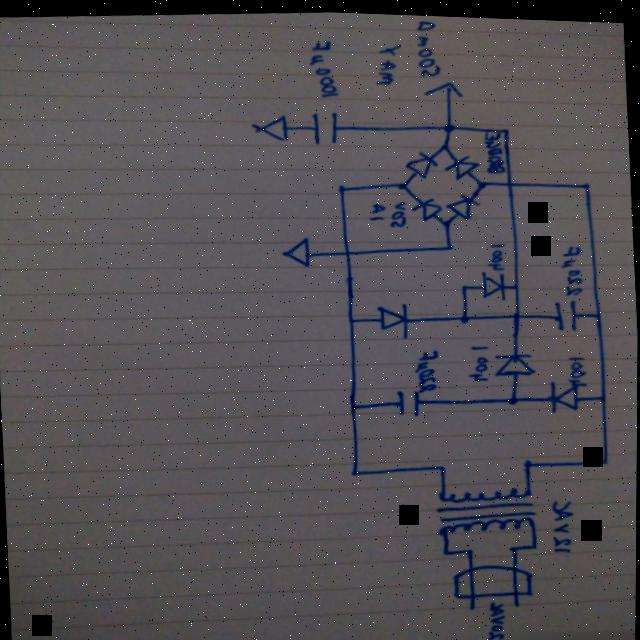capacitor: (311, 105, 342, 144), (554, 294, 580, 328), (397, 385, 422, 415)
crossover: (506, 175, 515, 184), (344, 247, 353, 255), (512, 308, 521, 315)
diode: (377, 298, 411, 339), (404, 145, 441, 176), (493, 348, 535, 375), (446, 189, 483, 218), (445, 149, 482, 178), (550, 375, 581, 409), (411, 192, 444, 218), (482, 266, 508, 298)
ground: (251, 110, 290, 141), (280, 233, 312, 266)
junction: (508, 390, 520, 401), (459, 310, 471, 320), (443, 119, 455, 129), (442, 214, 453, 224), (441, 138, 451, 148), (477, 176, 488, 185), (399, 177, 410, 186), (337, 181, 348, 190), (513, 278, 522, 287), (350, 400, 360, 408), (524, 455, 533, 463), (351, 466, 361, 473), (446, 240, 456, 247), (584, 177, 592, 185), (599, 389, 608, 396), (461, 280, 469, 287), (511, 541, 519, 548), (596, 307, 604, 313), (503, 124, 511, 130), (440, 461, 448, 467), (467, 544, 475, 550), (348, 315, 356, 321), (445, 546, 452, 552), (532, 539, 539, 545), (602, 455, 610, 460)
terminal: (424, 76, 464, 97), (512, 593, 525, 606), (467, 598, 480, 609)
text: (307, 37, 340, 99), (415, 15, 442, 74), (374, 39, 406, 84), (551, 495, 576, 549), (560, 239, 585, 292), (416, 344, 442, 389), (486, 595, 510, 640), (466, 340, 491, 378), (484, 127, 506, 170), (566, 350, 590, 383), (489, 237, 508, 268), (389, 197, 409, 224), (367, 199, 386, 218)
transformer: (436, 480, 540, 534)
